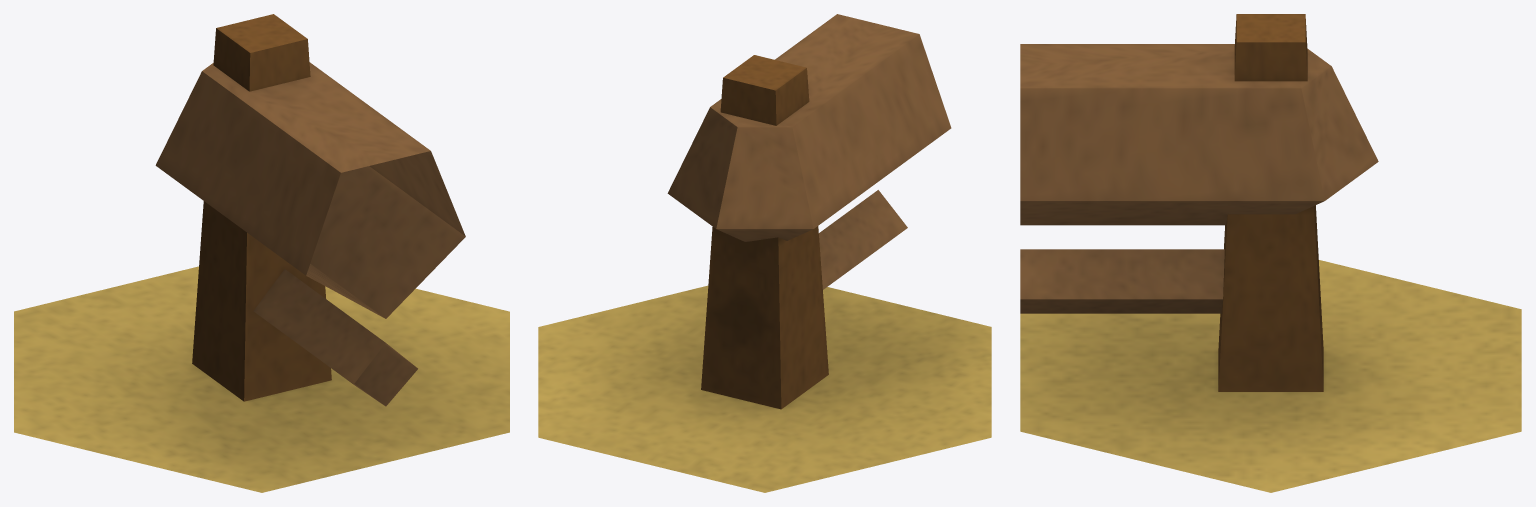
File: BarriereDesert_Fin.FBX
The picture shows the model from 3 angles, left to right: view 1: azimuth 30°, elevation 25°; view 2: azimuth 150°, elevation 25°; view 3: azimuth 270°, elevation 25°; orthographic projection. The views are drawn at different scales.
Parts seen in each view (by area): view 1: BarriereDesert_Fin; view 2: BarriereDesert_Fin; view 3: BarriereDesert_Fin.
Part boxes in pixels (<box>): BarriereDesert_Fin: <box>14,14,509,492</box>; BarriereDesert_Fin: <box>538,14,991,492</box>; BarriereDesert_Fin: <box>1020,14,1521,492</box>.
Bounding box in the file's own units: 1 × 0.6525 × 0.8661.
